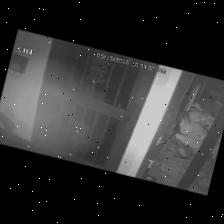person: (172, 111, 207, 158)
